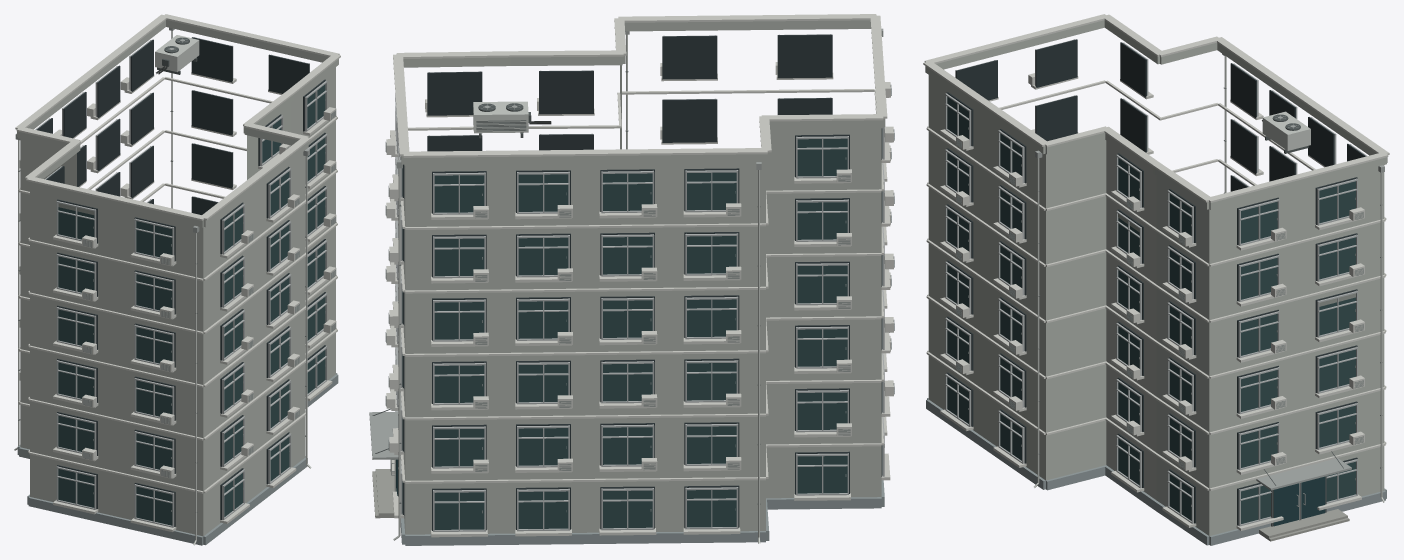
File: osm_way_225242515.glb
The picture shows the model from 3 angles, left to right: view 1: azimuth 30°, elevation 25°; view 2: azimuth 150°, elevation 25°; view 3: azimuth 270°, elevation 25°; orthographic projection. The views are drawn at different scales.
Visible parts, largest first — view 1: Architecture | 32, Windows and facade details | 32, Roof services | 32, EXTERIOR::osm_way_225242515::rainwater and roof service deta; view 2: Architecture | 32, Windows and facade details | 32, Roof services | 32, EXTERIOR::osm_way_225242515::rainwater and roof service deta, EXTERIOR::osm_way_225242515::inferred entry doors canopy and; view 3: Architecture | 32, Windows and facade details | 32, Roof services | 32, EXTERIOR::osm_way_225242515::inferred entry doors canopy and, EXTERIOR::osm_way_225242515::rainwater and roof service deta.
Part boxes in pixels (x1,y1,x2,y2): Architecture | 32: (17, 20, 338, 545); Windows and facade details | 32: (19, 37, 336, 531); Roof services | 32: (15, 14, 340, 220); EXTERIOR::osm_way_225242515::rainwater and roof service deta: (14, 27, 311, 545); Architecture | 32: (398, 20, 885, 545); Windows and facade details | 32: (385, 34, 894, 537); Roof services | 32: (393, 14, 887, 157); EXTERIOR::osm_way_225242515::rainwater and roof service deta: (393, 28, 883, 543); EXTERIOR::osm_way_225242515::inferred entry doors canopy and: (369, 408, 400, 518); Architecture | 32: (925, 20, 1387, 545); Windows and facade details | 32: (940, 39, 1366, 530); Roof services | 32: (923, 14, 1389, 202); EXTERIOR::osm_way_225242515::inferred entry doors canopy and: (1256, 451, 1351, 541); EXTERIOR::osm_way_225242515::rainwater and roof service deta: (1034, 53, 1384, 502).
Size of the model in its own units: 22.92 by 20.56 by 24.11.
